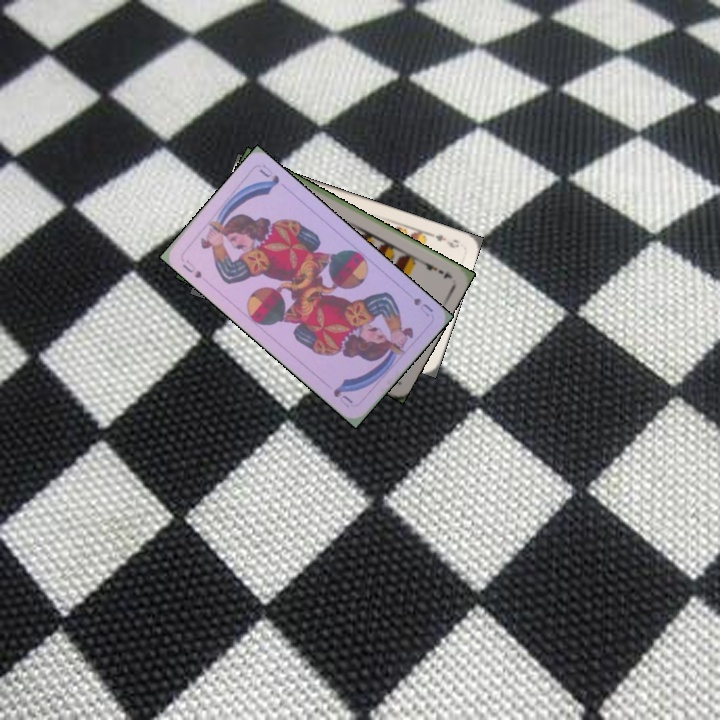E7: (416, 256, 454, 281)
E9: (425, 229, 461, 251)
SU: (409, 294, 436, 319), (178, 256, 204, 281)
